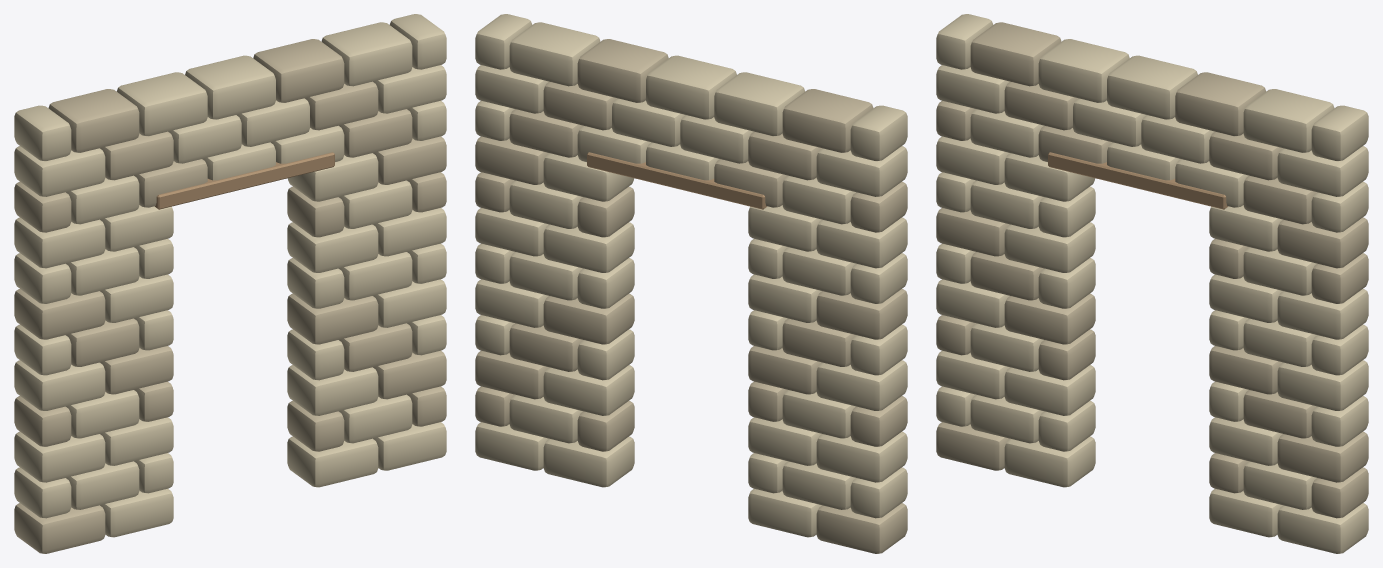
Rendered from build_walldoor.glb.
3 views of the same model, side by side, from view 1: azimuth 30°, elevation 25°; view 2: azimuth 150°, elevation 25°; view 3: azimuth 330°, elevation 25° (orthographic).
Parts seen in each view (by area): view 1: WallDoor; view 2: WallDoor; view 3: WallDoor.
Boxes of the visible parts, <box> form: WallDoor: <box>14,14,446,553</box>; WallDoor: <box>475,14,907,553</box>; WallDoor: <box>936,14,1368,553</box>.
Size of what is drawn, in the model's own units: 2.99 by 2.99 by 0.42.
